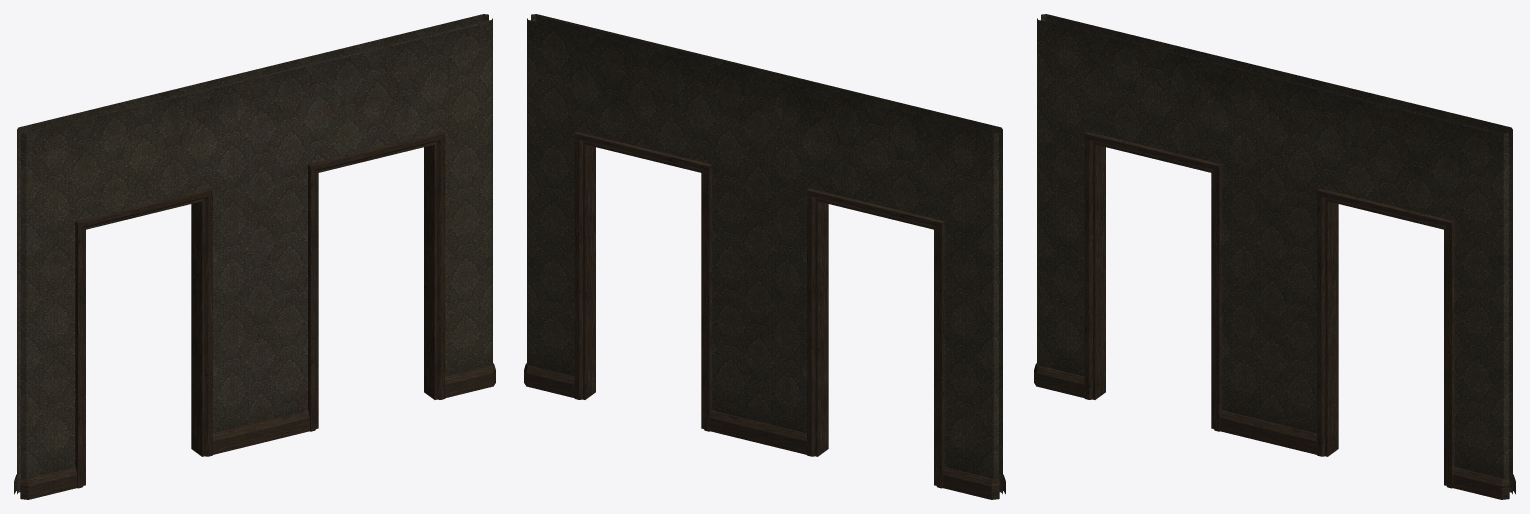
Rendered from double_single_doorway_2.obj.
3 renders of one model, left to right at view 1: azimuth 30°, elevation 25°; view 2: azimuth 150°, elevation 25°; view 3: azimuth 330°, elevation 25°, orthographic.
Visible parts, largest first — view 1: double_single_doorway_2; view 2: double_single_doorway_2; view 3: double_single_doorway_2.
Boxes of the visible parts, x1,y1,x2,y2 form: double_single_doorway_2: (14,14,495,499); double_single_doorway_2: (524,14,1005,499); double_single_doorway_2: (1034,14,1515,499).
Size of the model in its own units: 4.09 by 3 by 0.2.
